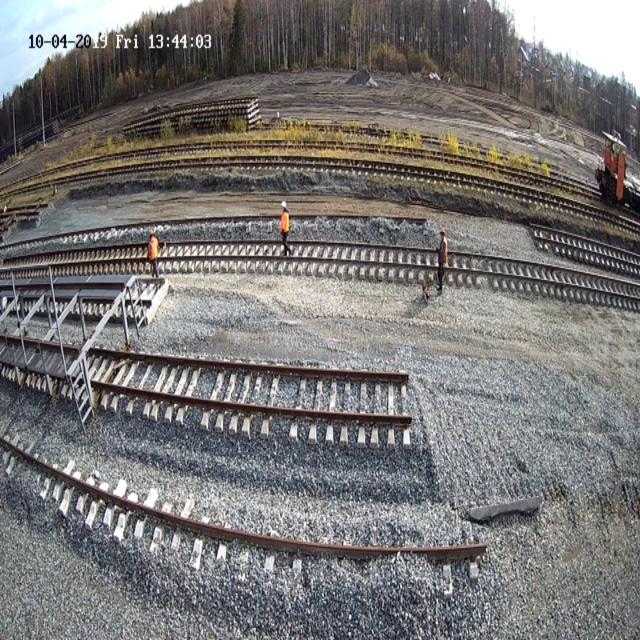Person: (147, 230, 163, 278), (436, 228, 448, 291), (279, 200, 291, 256)
